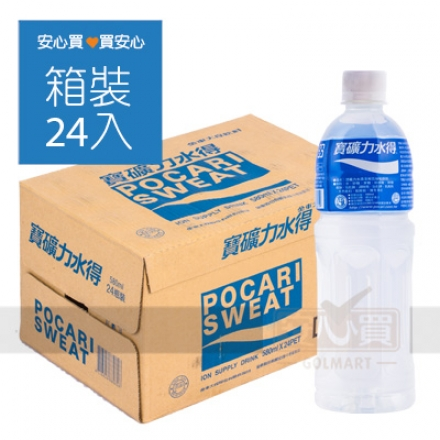POCARI SWEAT: (311, 65, 414, 414)
